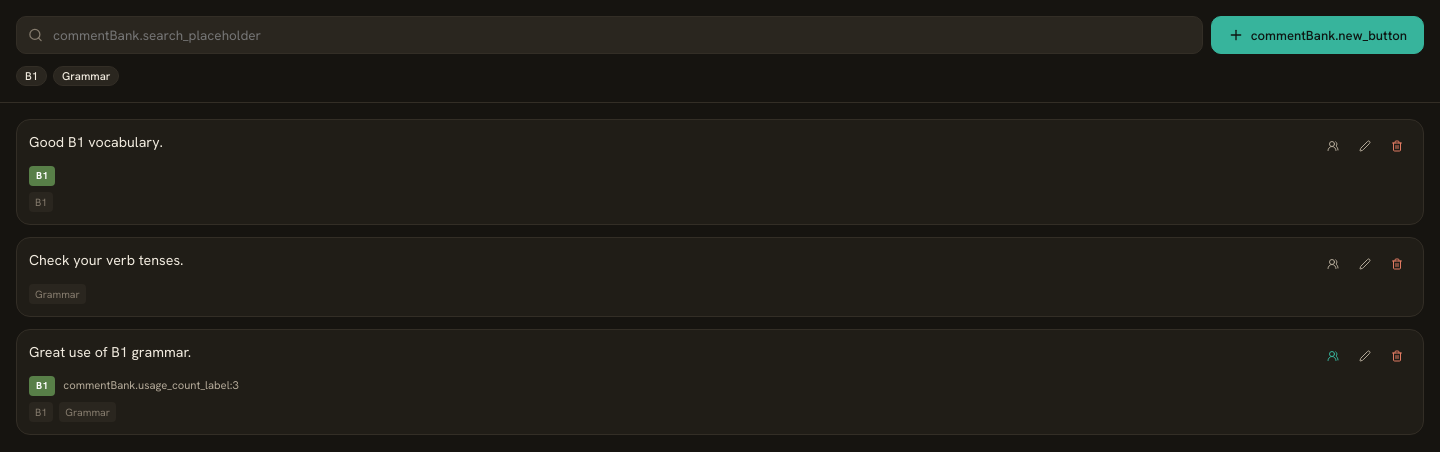
Test: CommentBankManager delete undo and tag filter (#686) › applies the same narrowing to the compact tag chips
Click the button "B1" at (32, 76), box left=16, top=66, right=47, bottom=86
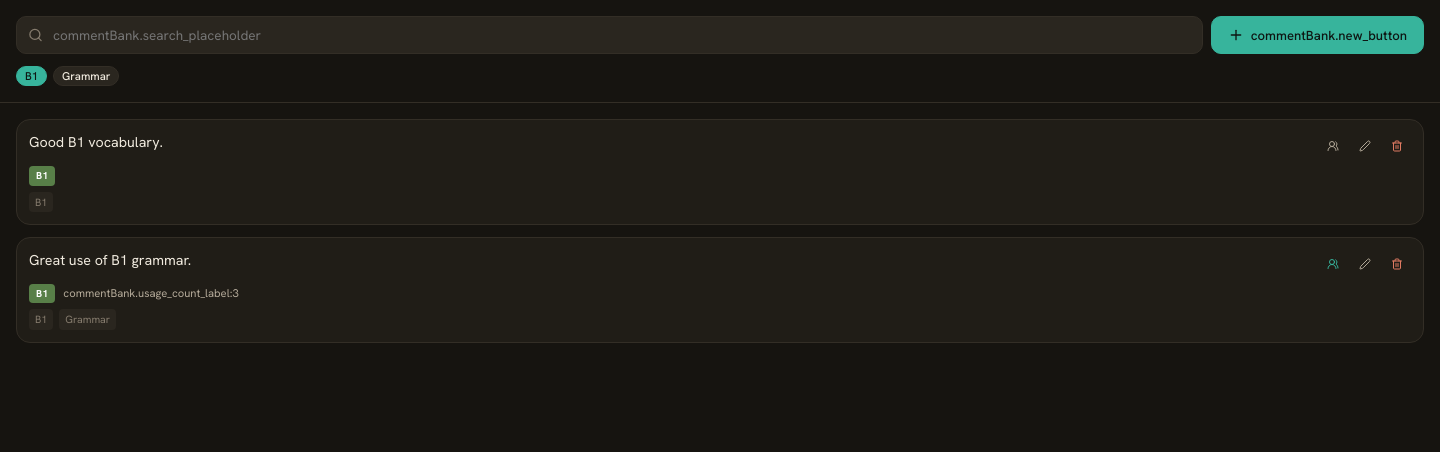
Click the button "Grammar" at (86, 76), box left=53, top=66, right=119, bottom=86
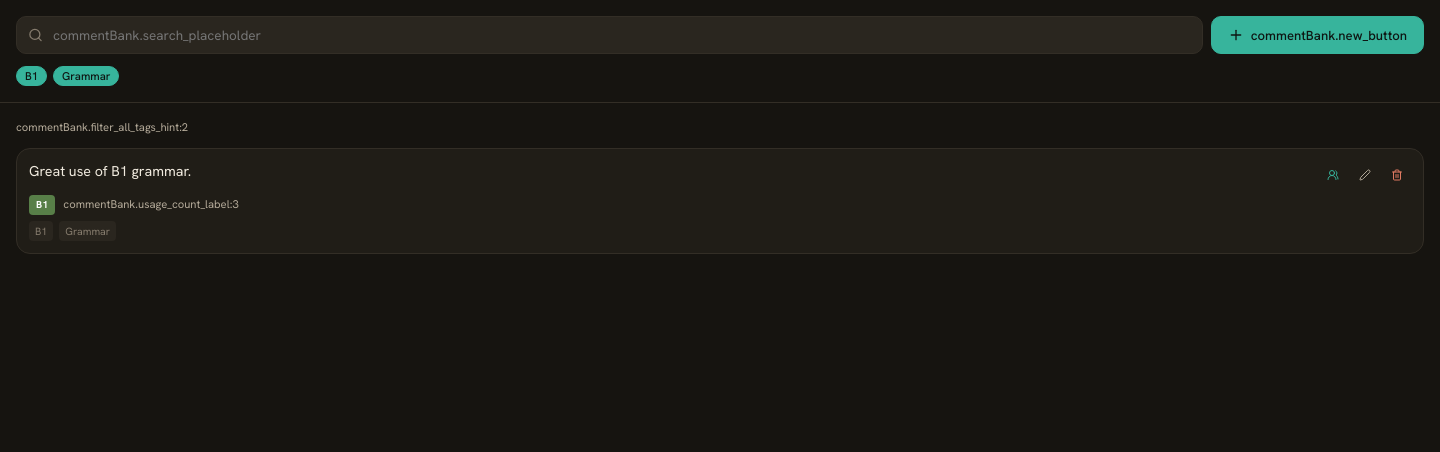
Expected: the text "Great use of B1 grammar." is shown, left=29, top=162, right=191, bottom=180
Now the text "Good B1 vocabulary." is gone
